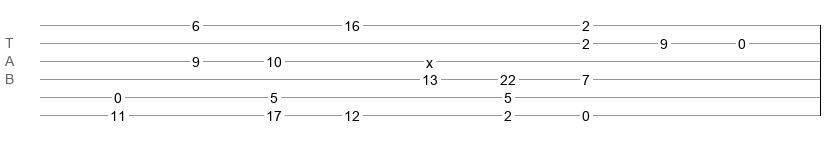0: (114, 90, 122, 100), (582, 108, 590, 118), (738, 36, 746, 46)
10: (266, 54, 282, 64)
11: (110, 108, 126, 118)
12: (344, 108, 360, 118)
13: (422, 72, 438, 82)
16: (344, 18, 360, 28)
17: (266, 108, 282, 118)
2: (504, 108, 512, 118), (582, 18, 590, 28), (582, 36, 590, 46)
22: (500, 72, 516, 82)
5: (270, 90, 278, 100), (504, 90, 512, 100)
6: (192, 18, 200, 28)
7: (582, 72, 590, 82)
9: (192, 54, 200, 64), (660, 36, 668, 46)
x: (426, 55, 433, 63)
